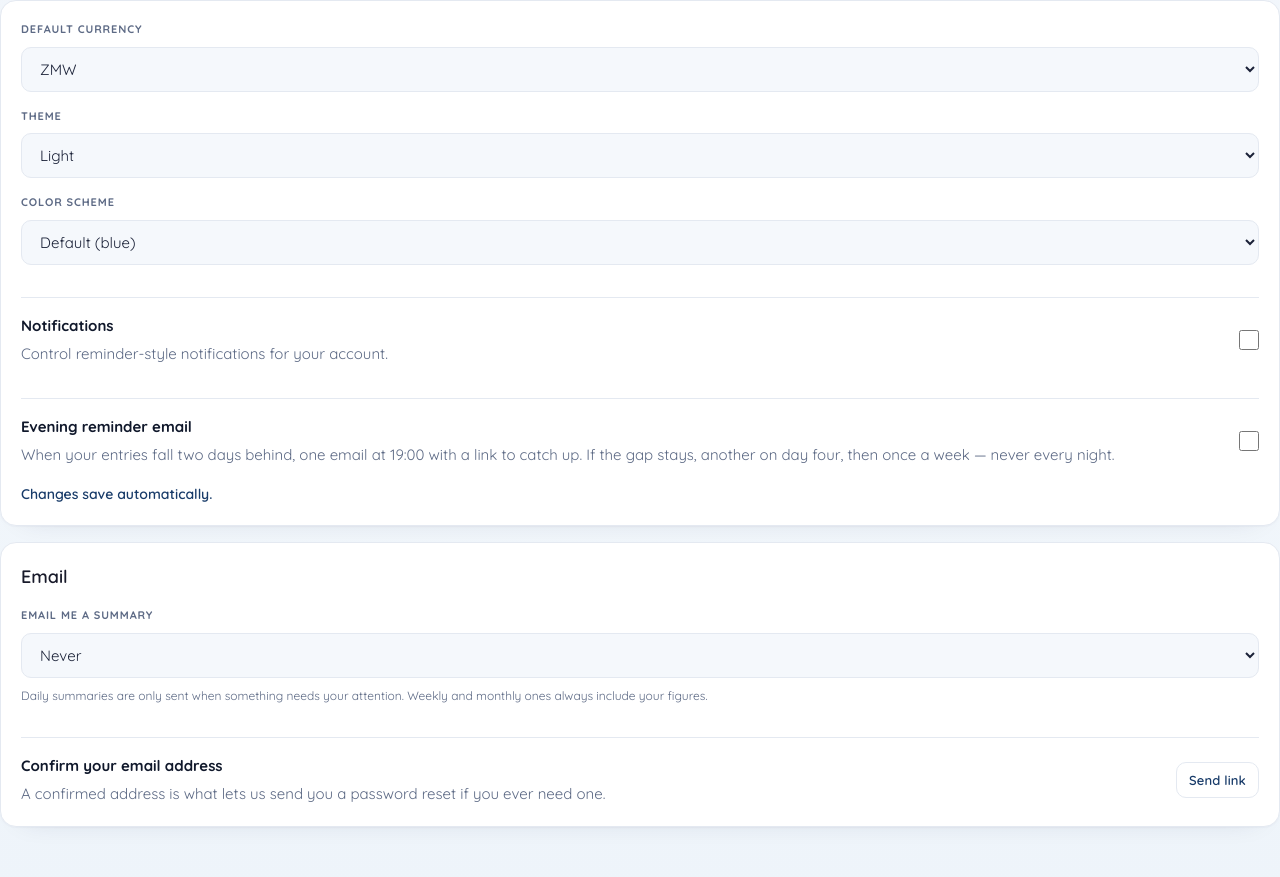
Test: PreferencesSettingsPage › only offers the per-alert choices once summaries are scheduled
This screenshot has width=1280, height=877.
expect the field labelled "Spending is running high" is not shown: met
Step 1. Select "Every Monday" in the dropdown labelled "Email me a summary" → (640, 655), box [21,633,1259,678]
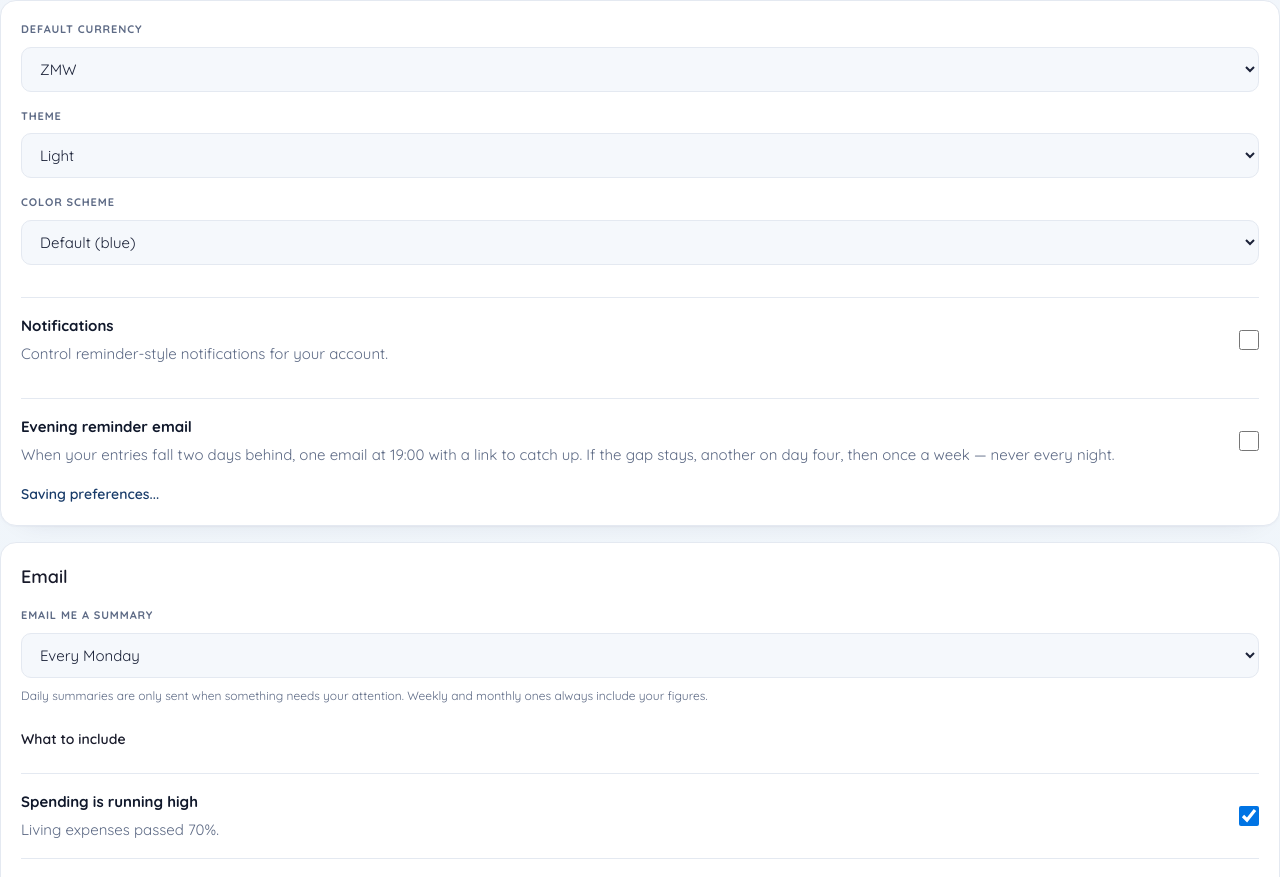
expect the checkbox labelled "Spending is running high Living expenses passed 70%." is shown: met, box [1239,806,1259,826]
